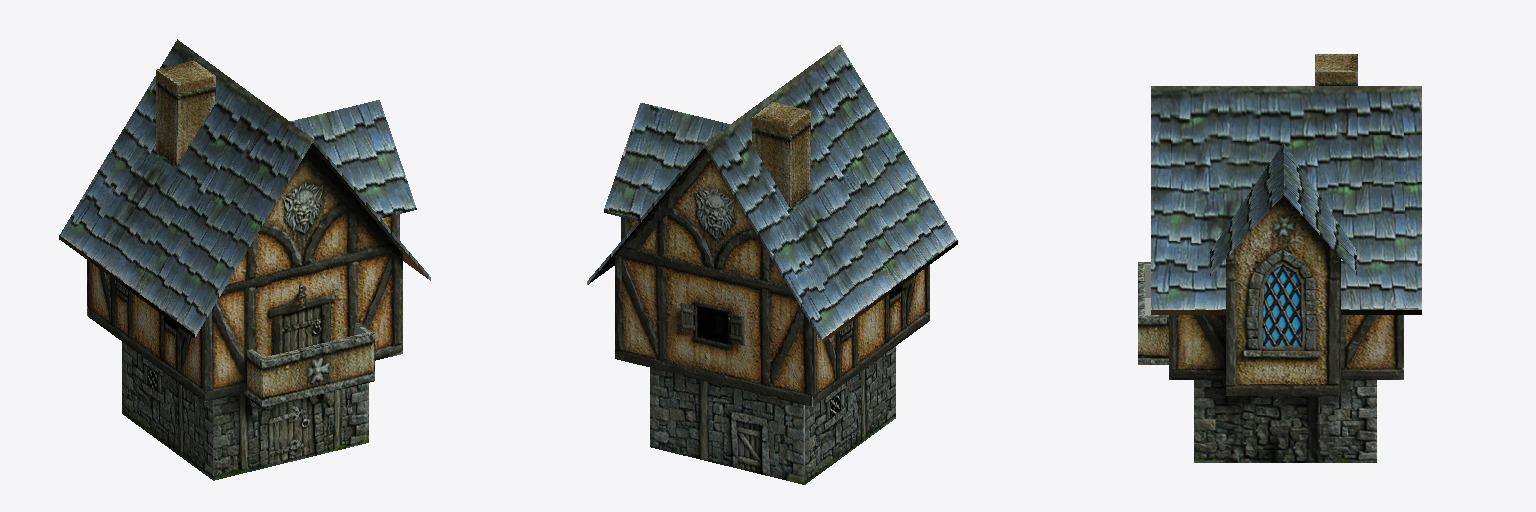
3 views of the same model, side by side, from view 1: azimuth 30°, elevation 25°; view 2: azimuth 150°, elevation 25°; view 3: azimuth 270°, elevation 25° (orthographic).
Parts seen in each view (by area): view 1: Box03; view 2: Box03; view 3: Box03.
Part boxes in pixels (x1,y1,x2,y2): Box03: (59,39,430,480); Box03: (587,45,957,484); Box03: (1138,54,1421,462).
Size of the model in its own units: 47.72 by 62.7 by 46.72.
1 materials, 1 textured.